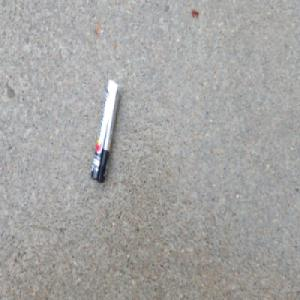Battery: (90, 78, 121, 183)
